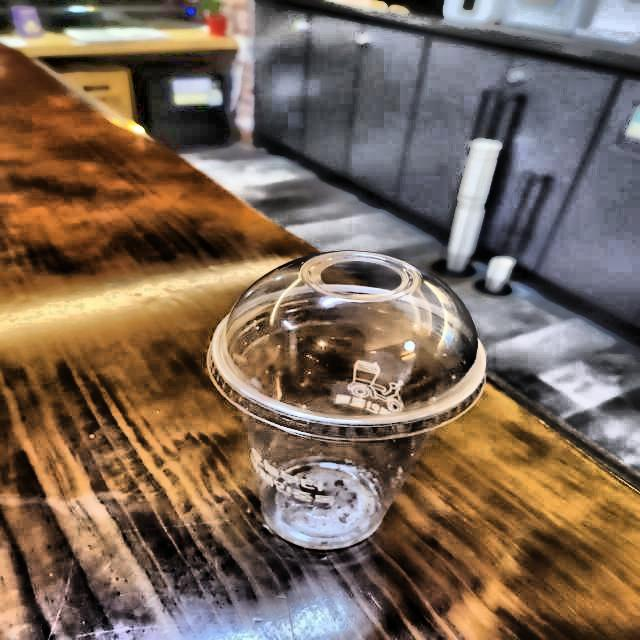plastic cup: (175, 211, 528, 610)
